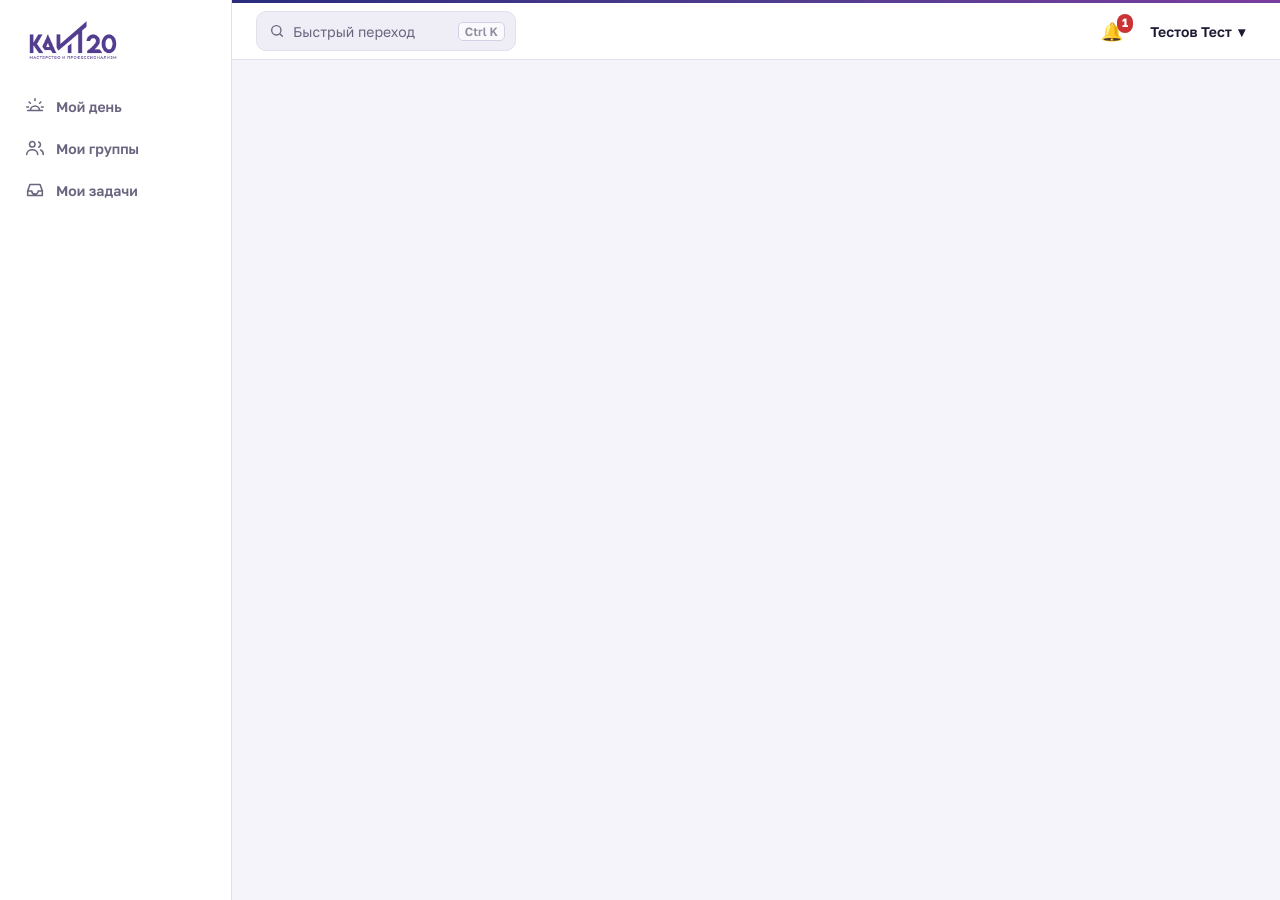
Test: Уведомления (колокольчик) › клик по уведомлению о задаче открывает назначение и помечает прочитанным
This screenshot has width=1280, height=900.
Click the button named "Уведомления" at {"x": 1112, "y": 31}, box [1097,18,1127,44]
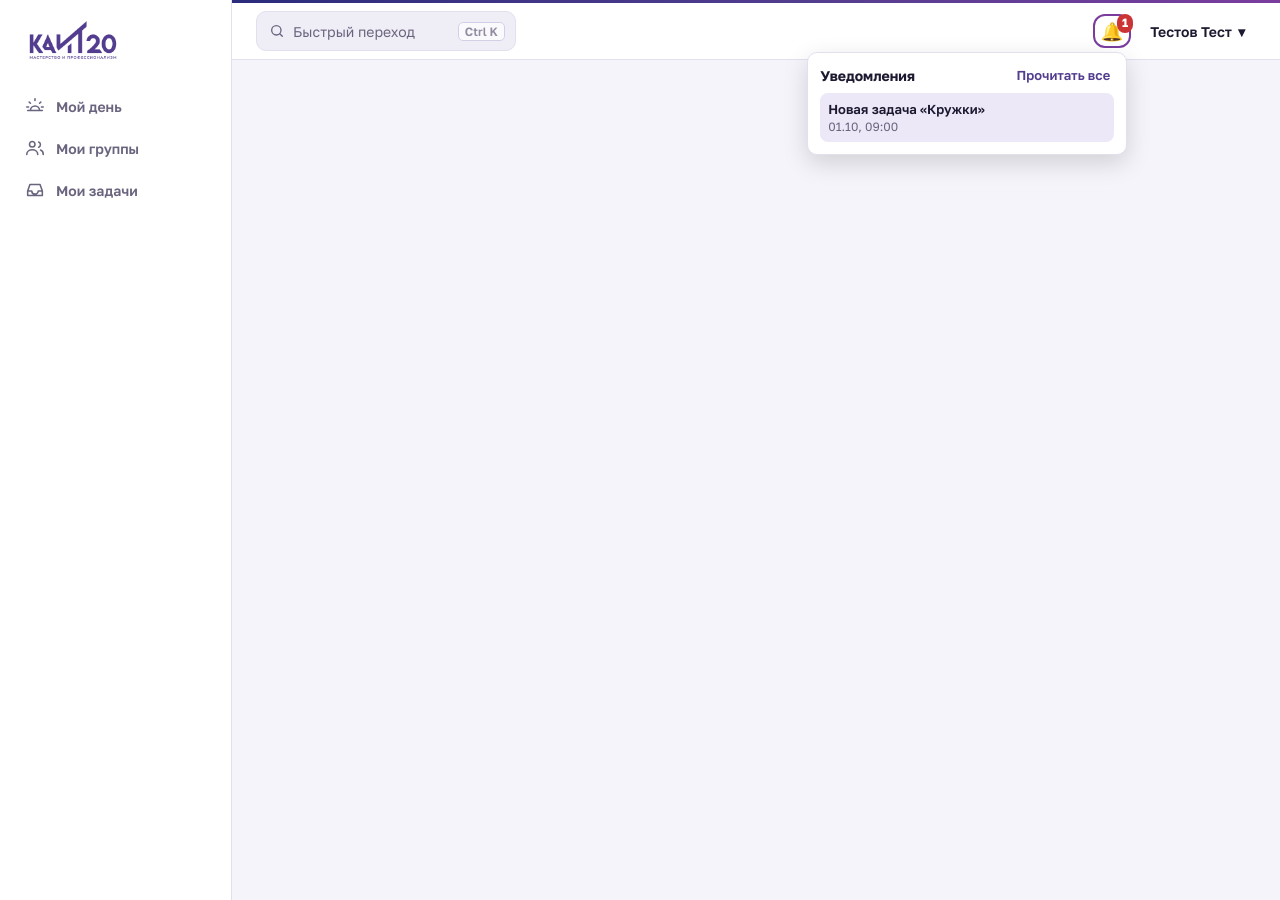
Click the text "Новая задача «Кружки»" at {"x": 906, "y": 109}, box [828,101,985,117]
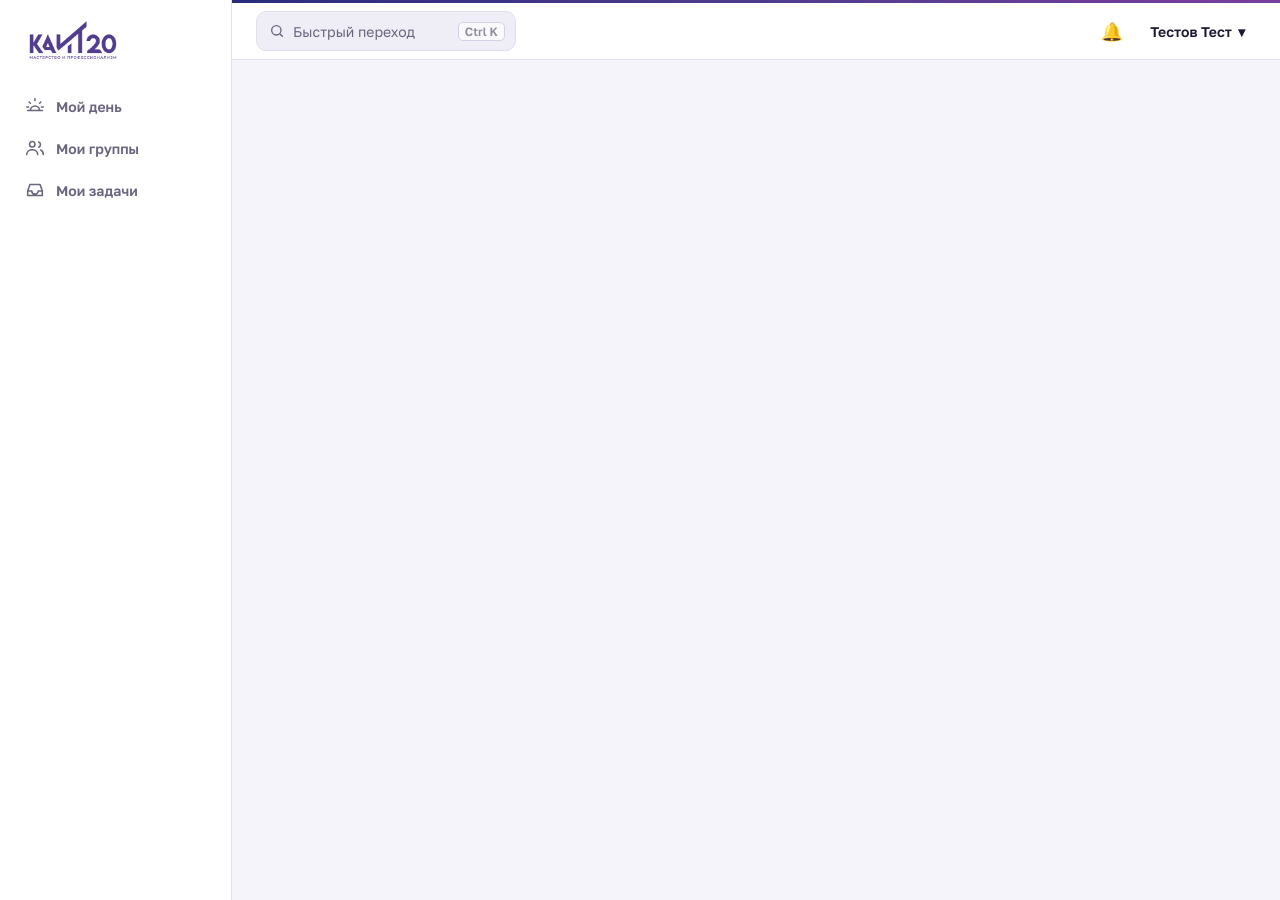
Result: the text "Уведомления" is gone
